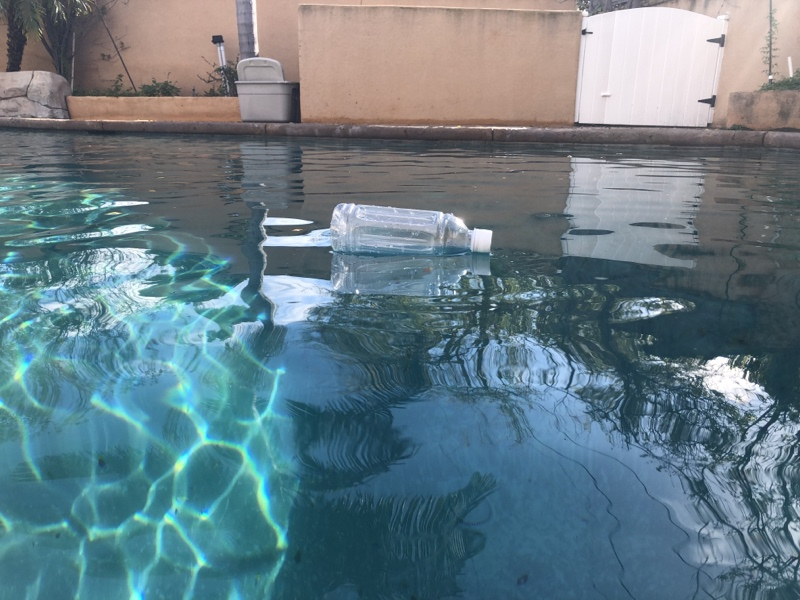Plastic Bottle: (326, 200, 496, 259)
